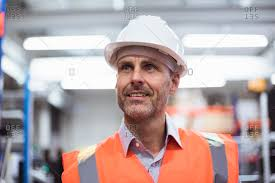Person_wearing_helmet: (102, 12, 190, 79)
